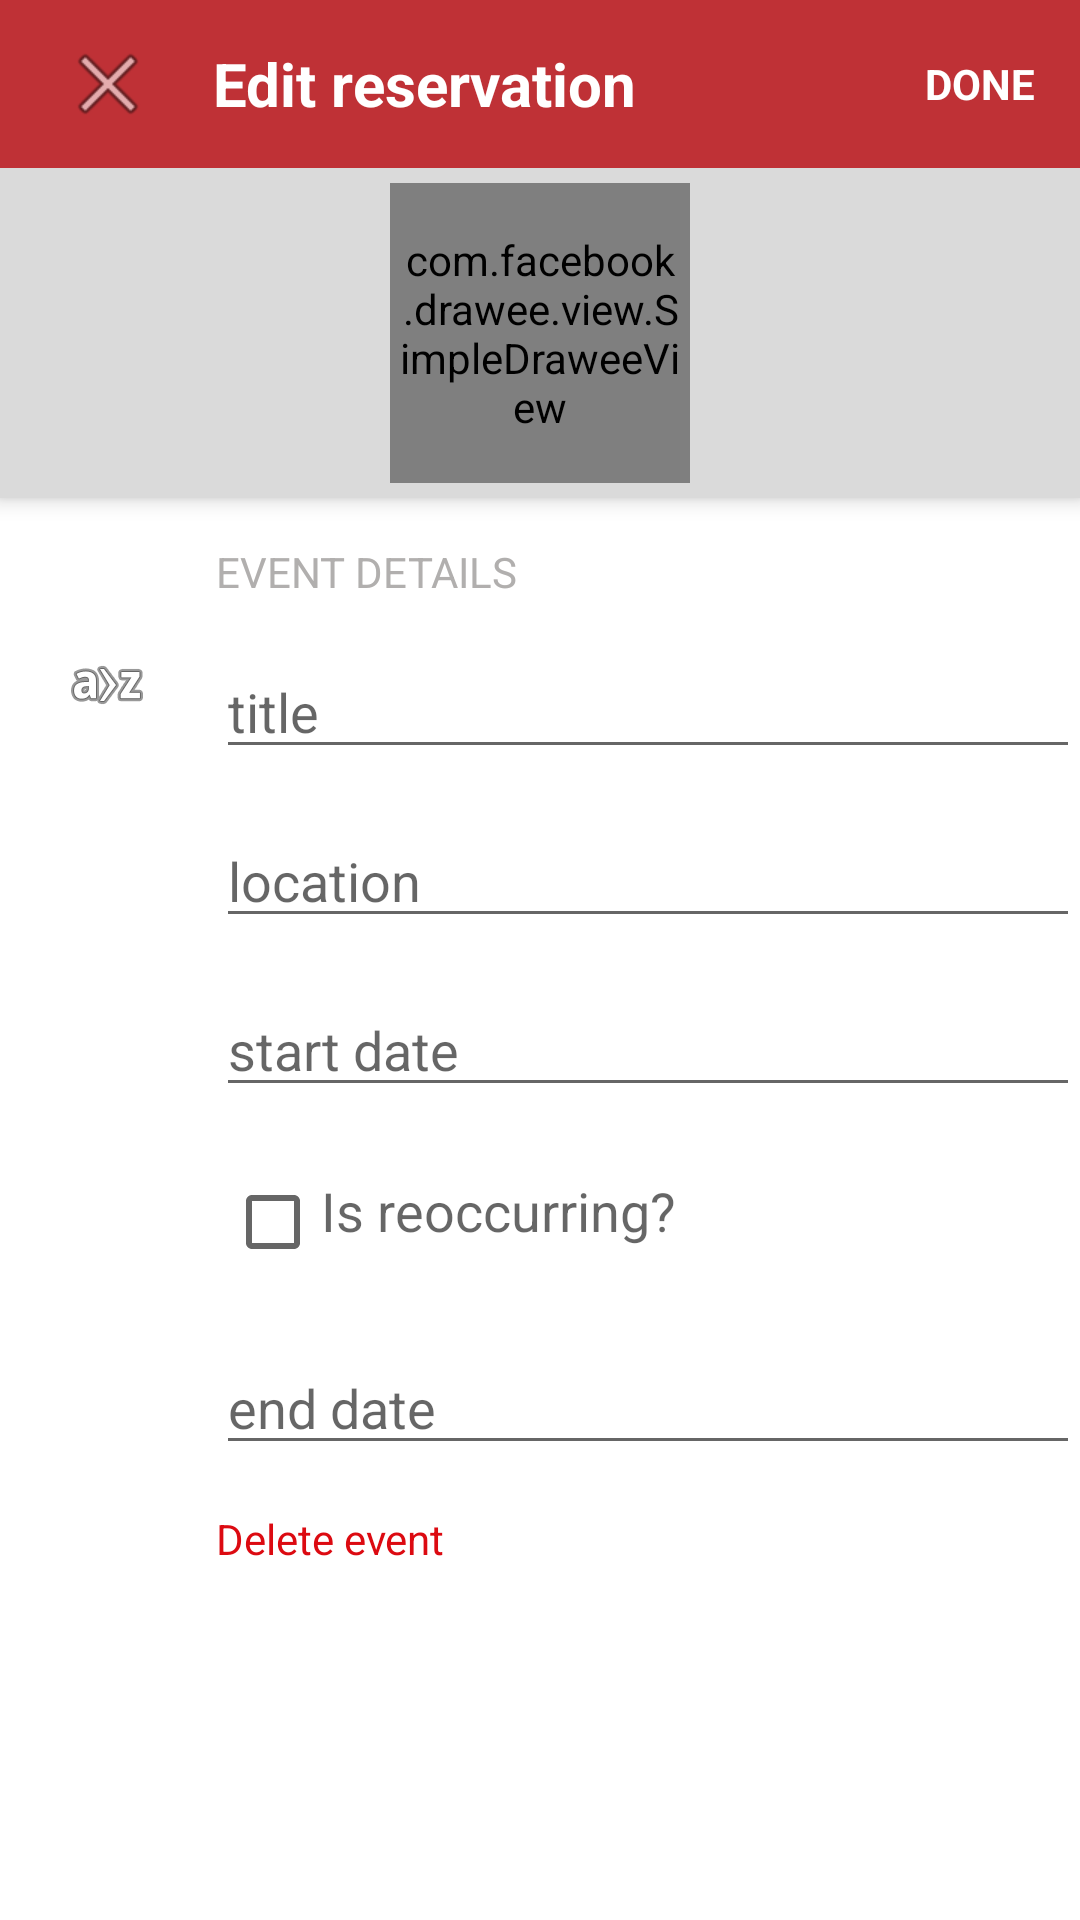

Icons on this 1080w x 1920h Android screen, each with the point to tap as (x=x, y=y):
close clear cancel: (x=108, y=84)
sort alphabetically: (x=107, y=685)
